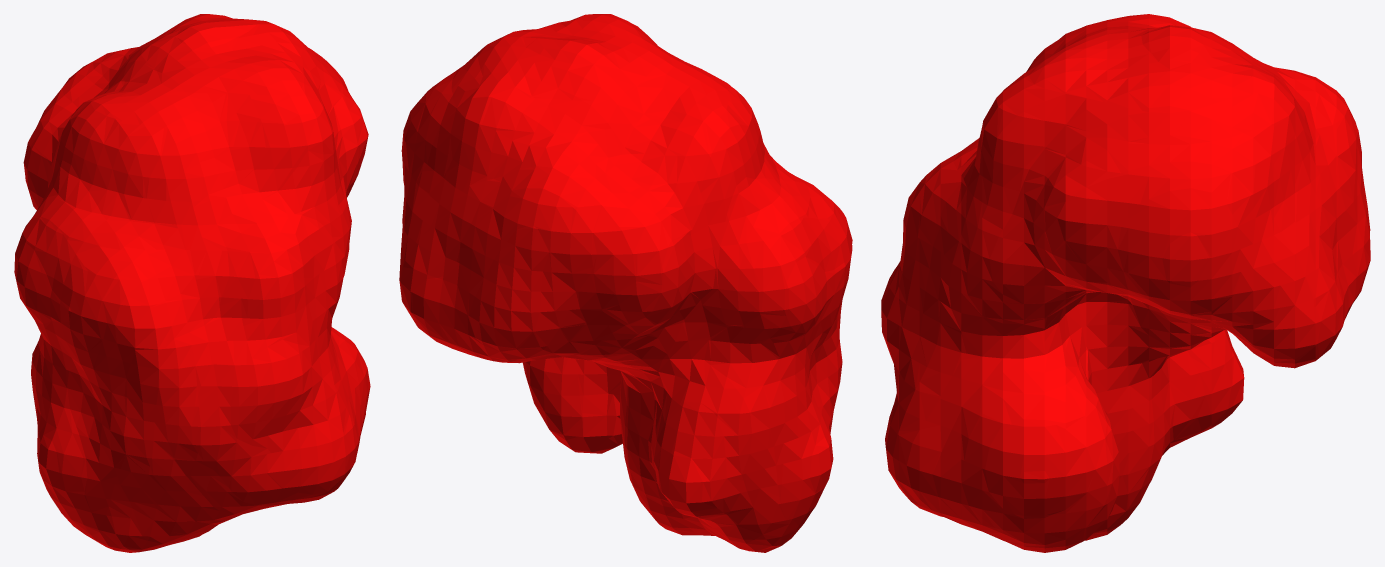
The model's file is qorB_coarse.dae.
3 views of the same model, side by side, from view 1: azimuth 30°, elevation 25°; view 2: azimuth 150°, elevation 25°; view 3: azimuth 270°, elevation 25° (orthographic). The views are drawn at different scales.
Parts seen in each view (by area): view 1: qorB; view 2: qorB; view 3: qorB.
Boxes of the visible parts, x1,y1,x2,y2 form: qorB: (14,14,370,552); qorB: (399,14,852,552); qorB: (881,14,1370,552).
Size of the model in its own units: 46.66 by 58.62 by 47.94.
